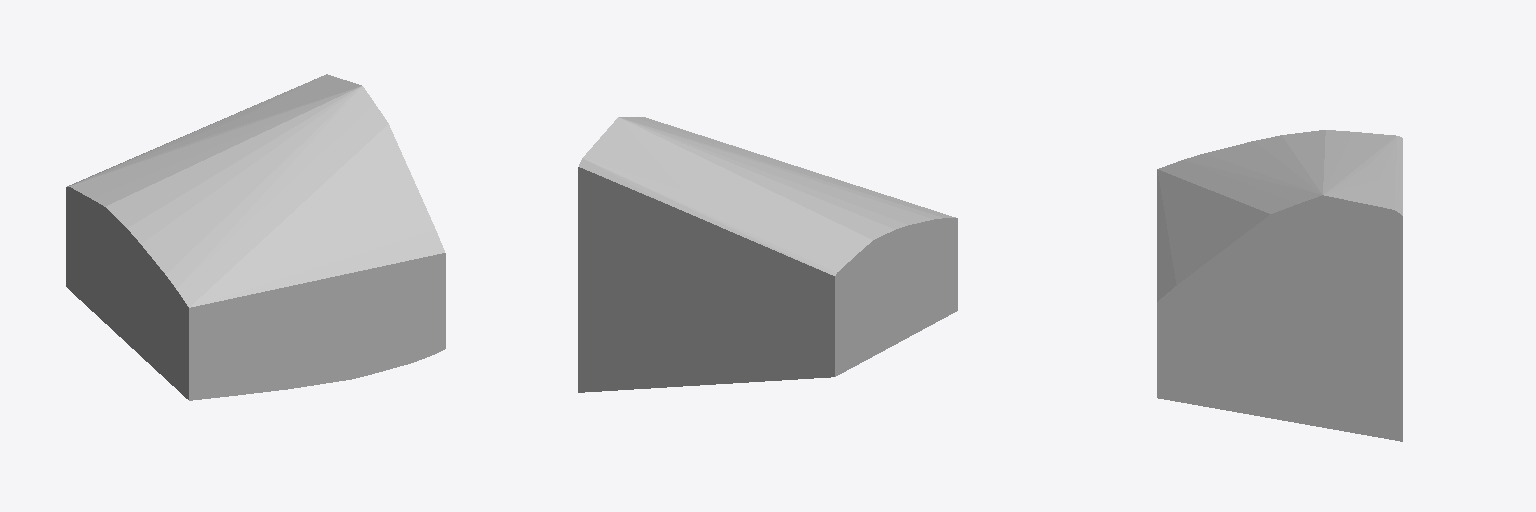
File: phantom-elastrat_collision_661.obj
3 views of the same model, side by side, from view 1: azimuth 30°, elevation 25°; view 2: azimuth 150°, elevation 25°; view 3: azimuth 270°, elevation 25° (orthographic).
Bounding box in the file's own units: 0.0048 × 0.0044 × 0.004.